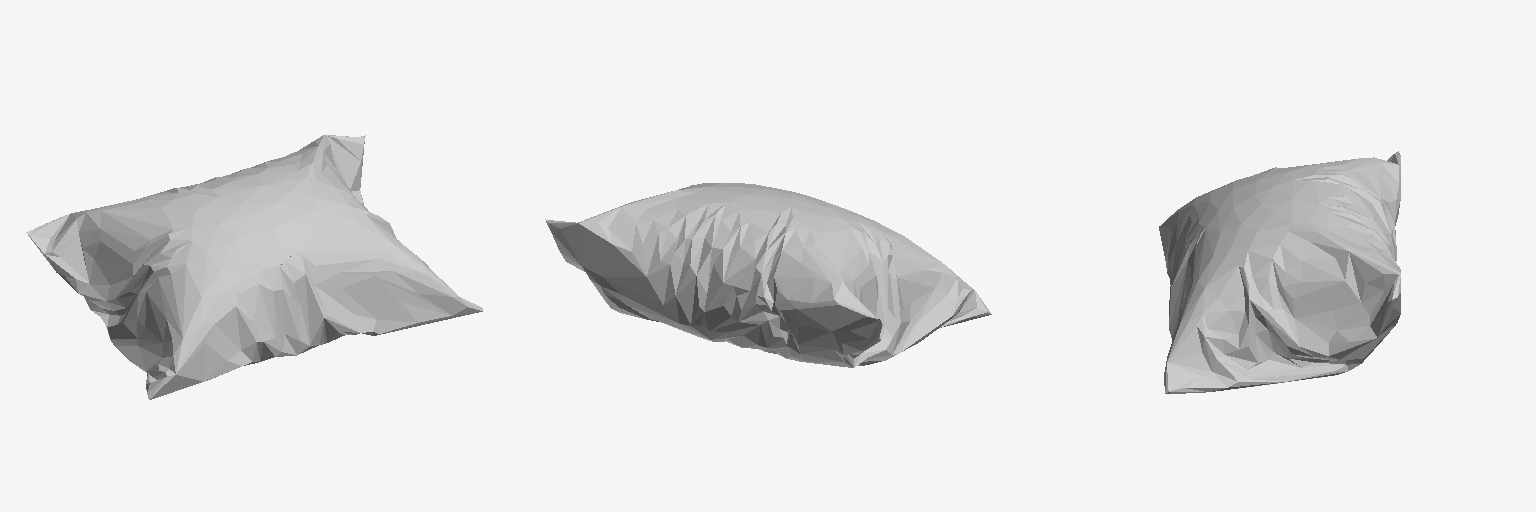
The model's file is PillowHers.obj.
3 views of the same model, side by side, from view 1: azimuth 30°, elevation 25°; view 2: azimuth 150°, elevation 25°; view 3: azimuth 270°, elevation 25° (orthographic).
Visible parts, largest first — view 1: pillowhers; view 2: pillowhers; view 3: pillowhers.
Part boxes in pixels (left/top/right/bottom): pillowhers: left=26, top=135, right=482, bottom=399; pillowhers: left=545, top=183, right=991, bottom=367; pillowhers: left=1159, top=151, right=1400, bottom=393.
Bounding box in the file's own units: 0.7367 × 0.2595 × 0.453.